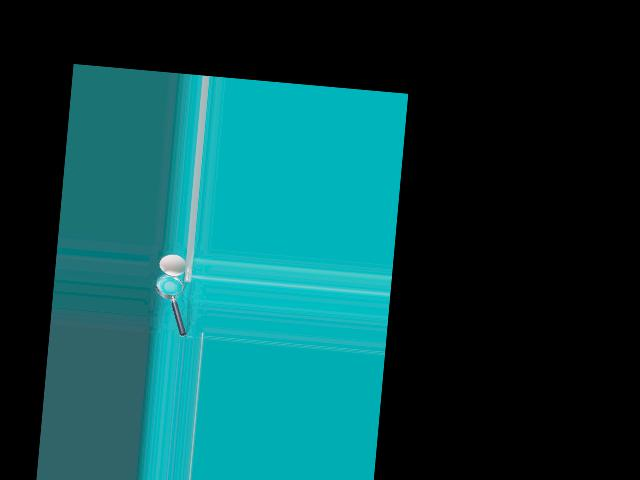egg: (158, 253, 187, 276)
